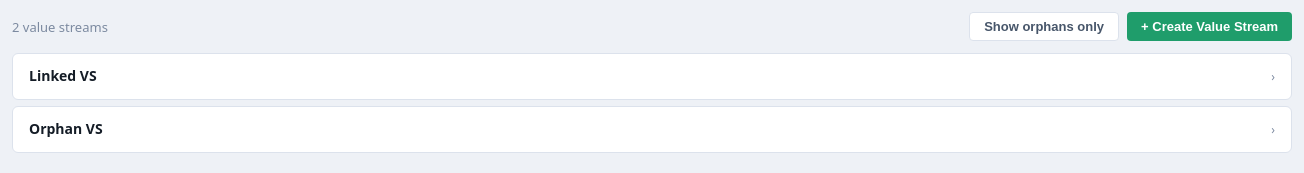
Scenario: ValueStreamList: orphan badge and filter (918-strategy-rollups) › shows an empty state when the orphan filter matches nothing
Click the button "Show orphans only" at (1044, 26), box [969,12,1119,41]
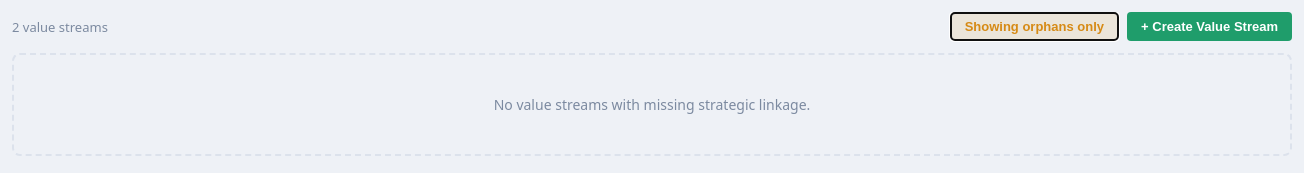
Check: the text "No value streams with missing strategic linkage." is shown, box [12,53,1292,156]
